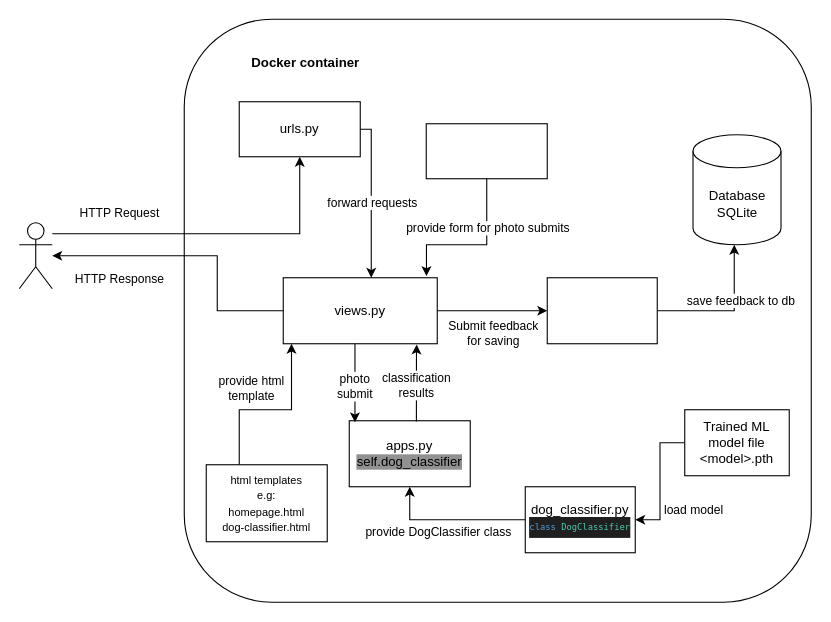
The diagram is 831 pixels wide and 622 high, and some of its shapes have lost their labels. Each missing label, with the centre of its shape:
"forms.py class PhotoForm" goes at point (486, 151).
"models.py class DogPhoto" goes at point (601, 310).
"User" goes at point (35, 255).
